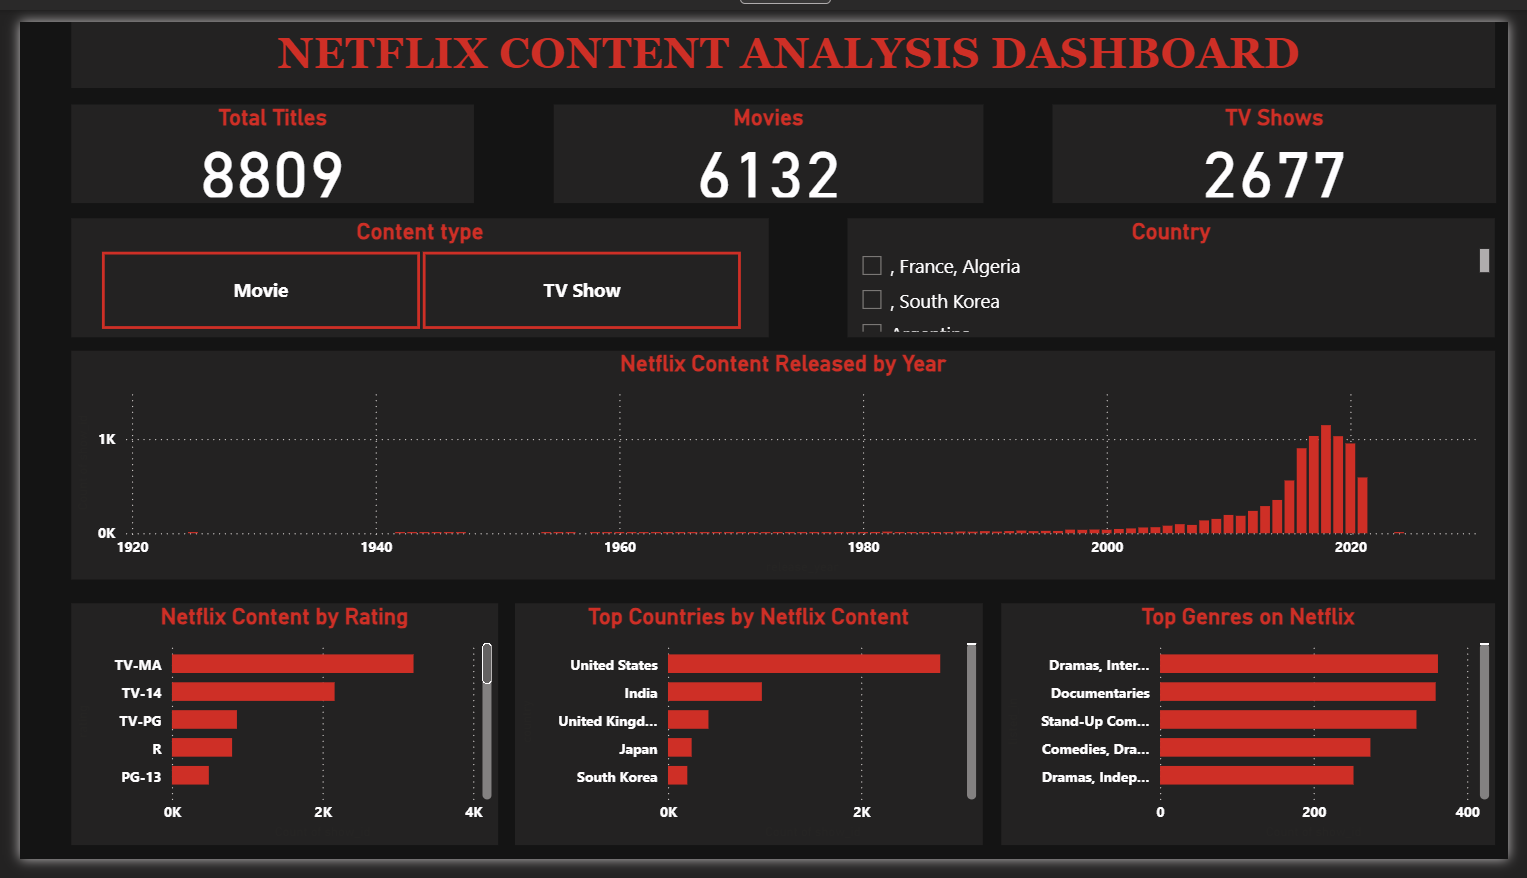

What the dashboard file says about the page in this screenshot:
{"tool":"powerbi","page":{"name":"Page 1","canvas":[1280,720],"ordinal":0},"visuals":[{"type":"card","title":"Total Titles","fields":{"Values":["CountNonNull(netflix_titles.show_id)"]},"box":[44.5,71.5,346.7,85],"z":0},{"type":"card","title":"Movies","fields":{"Values":["CountNonNull(netflix_titles.show_id)"]},"box":[458.7,71.5,369.6,85],"z":1000},{"type":"card","title":"TV Shows","fields":{"Values":["CountNonNull(netflix_titles.show_id)"]},"box":[887.7,71.5,381.8,85],"z":2000},{"type":"clusteredColumnChart","title":"Netflix Content Released by Year","fields":{"Category":["netflix_titles.release_year"],"Y":["CountNonNull(netflix_titles.show_id)"]},"box":[44.5,283.3,1225,197],"z":3000},{"type":"clusteredBarChart","title":"Top Countries by Netflix Content","fields":{"Category":["netflix_titles.country"],"Y":["CountNonNull(netflix_titles.show_id)"]},"box":[426.3,500.5,402,207.8],"z":4000},{"type":"clusteredBarChart","title":"Netflix Content by Rating","fields":{"Category":["netflix_titles.rating"],"Y":["CountNonNull(netflix_titles.show_id)"]},"box":[44.5,500.5,366.9,207.8],"z":5000},{"type":"slicer","title":"Content type","fields":{"Values":["netflix_titles.type"]},"box":[44.5,168.6,600.3,102.5],"z":6000},{"type":"slicer","title":"Country","fields":{"Values":["netflix_titles.country"]},"box":[712.3,168.6,557.2,102.5],"z":7000},{"type":"clusteredBarChart","title":"Top Genres on Netflix","fields":{"Category":["netflix_titles.listed_in"],"Y":["CountNonNull(netflix_titles.show_id)"]},"box":[844.5,500.5,425,207.8],"z":8000},{"type":"textbox","box":[44.5,0,1225,56.7],"z":9000}]}

Visuals, with their boxes in screenshot pixels (x1, y1, x2, y2), scaled from the page's 1280x720 canvas onto the 1527x878 screenshot:
"Total Titles" card: (53,87,467,191)
"Movies" card: (547,87,988,191)
"TV Shows" card: (1059,87,1514,191)
"Netflix Content Released by Year" clusteredColumnChart: (53,345,1514,586)
"Top Countries by Netflix Content" clusteredBarChart: (509,610,988,864)
"Netflix Content by Rating" clusteredBarChart: (53,610,491,864)
"Content type" slicer: (53,206,769,331)
"Country" slicer: (850,206,1514,331)
"Top Genres on Netflix" clusteredBarChart: (1007,610,1514,864)
textbox: (53,0,1514,69)
